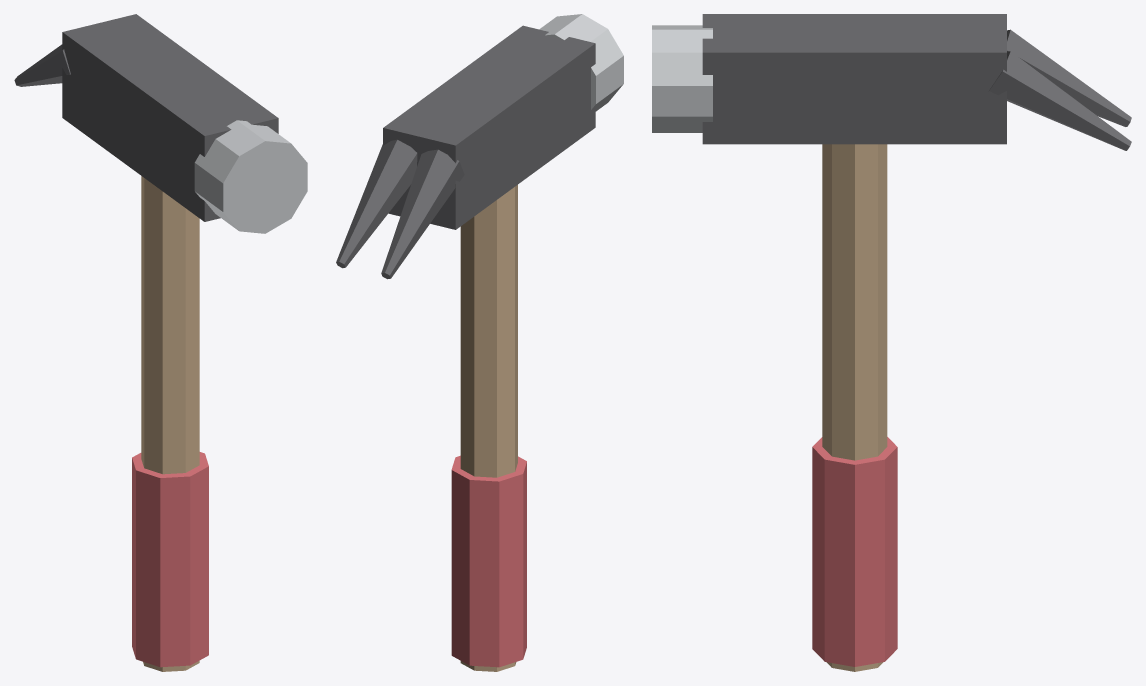
Rendered from hammer.glb.
The picture shows the model from 3 angles, left to right: view 1: azimuth 30°, elevation 25°; view 2: azimuth 150°, elevation 25°; view 3: azimuth 270°, elevation 25°; orthographic projection. The views are drawn at different scales.
Parts seen in each view (by area): view 1: Head, Handle, Grip, Face; view 2: Head, Handle, Grip, Face; view 3: Head, Handle, Grip, Face.
Part boxes in pixels (left/top/right/bottom): Head: left=14, top=14, right=278, bottom=221; Handle: left=141, top=176, right=199, bottom=671; Grip: left=132, top=452, right=208, bottom=667; Face: left=194, top=120, right=307, bottom=233; Head: left=336, top=25, right=595, bottom=279; Handle: left=460, top=185, right=517, bottom=671; Grip: left=451, top=455, right=526, bottom=667; Face: left=539, top=14, right=623, bottom=111; Head: left=702, top=14, right=1131, bottom=150; Handle: left=822, top=144, right=887, bottom=671; Grip: left=812, top=437, right=897, bottom=666; Face: left=652, top=25, right=712, bottom=132.
Bounding box in the file's own units: 0.0514 × 0.342 × 0.2366.
